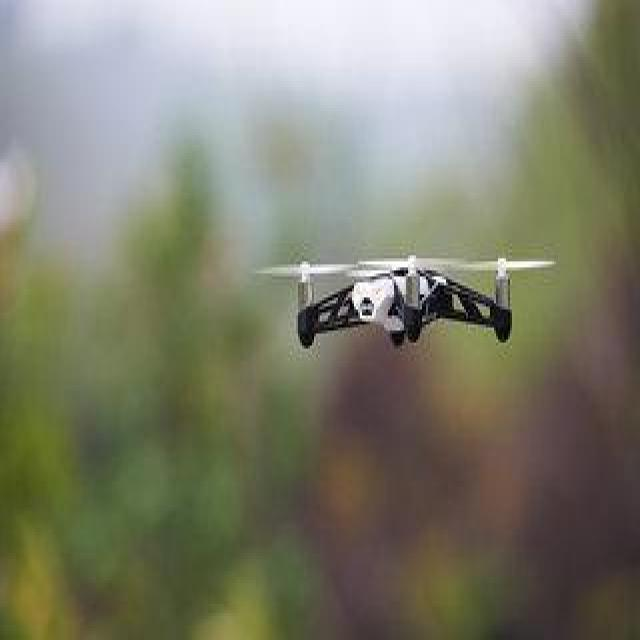UAV: (292, 250, 518, 354)
